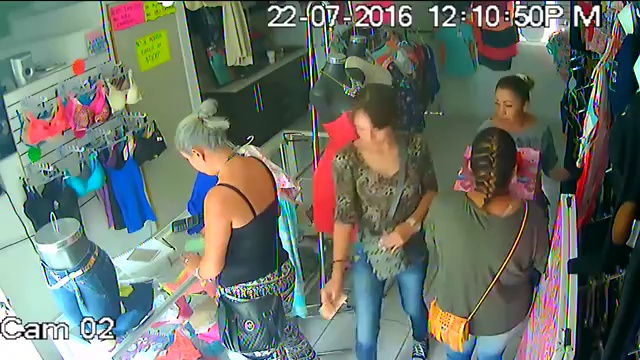face: (354, 105, 398, 149), (492, 93, 527, 120)
